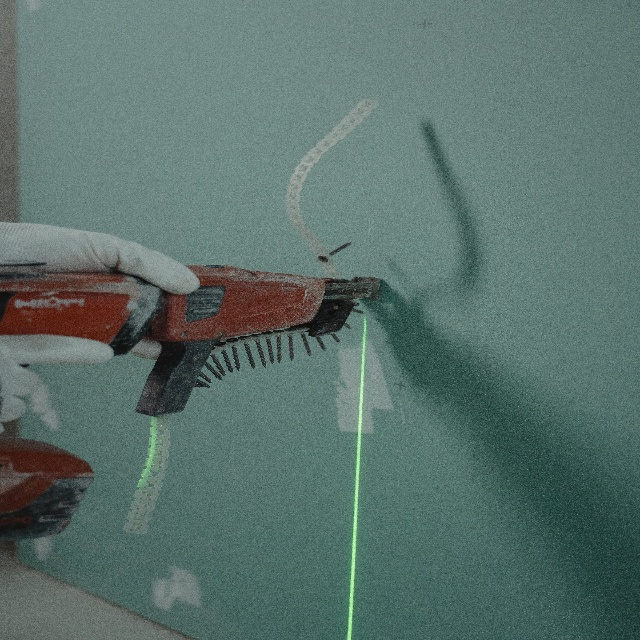Guantes: (0, 232, 197, 365)
